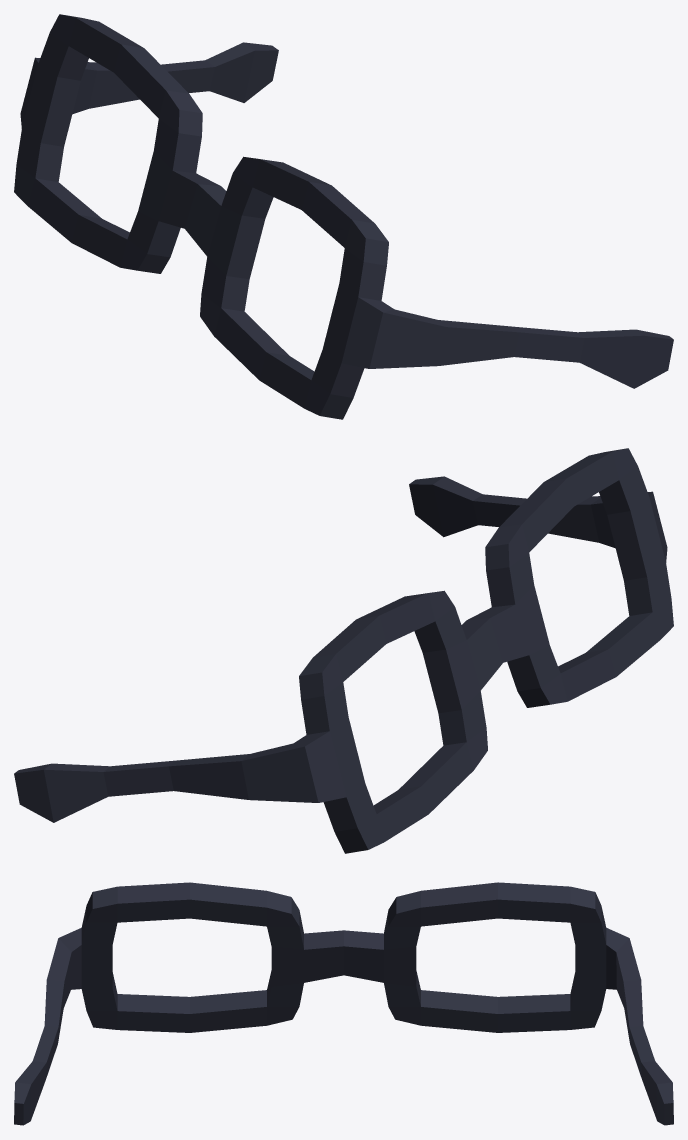
The model's file is LI_Glasses_Mesh_01.fbx.
3 views of the same model, one above another, from view 1: azimuth 30°, elevation 25°; view 2: azimuth 150°, elevation 25°; view 3: azimuth 270°, elevation 25° (orthographic). The views are drawn at different scales.
Visible parts, largest first — view 1: LI_Glasses_01; view 2: LI_Glasses_01; view 3: LI_Glasses_01.
Part boxes in pixels (left/top/right/bottom): LI_Glasses_01: left=14, top=14, right=673, bottom=419; LI_Glasses_01: left=14, top=448, right=673, bottom=853; LI_Glasses_01: left=14, top=882, right=673, bottom=1125.
Size of the model in its own units: 0.2212 by 0.1343 by 0.499.
